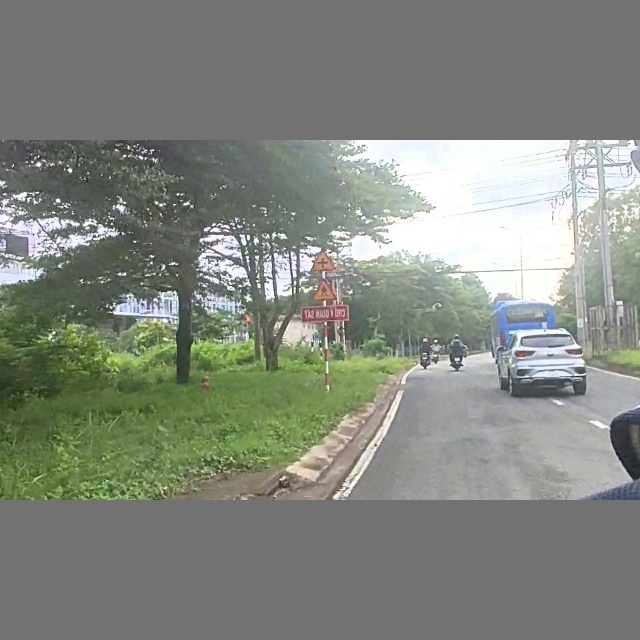W.205a: (307, 249, 337, 273)
W.224: (309, 278, 340, 301)
